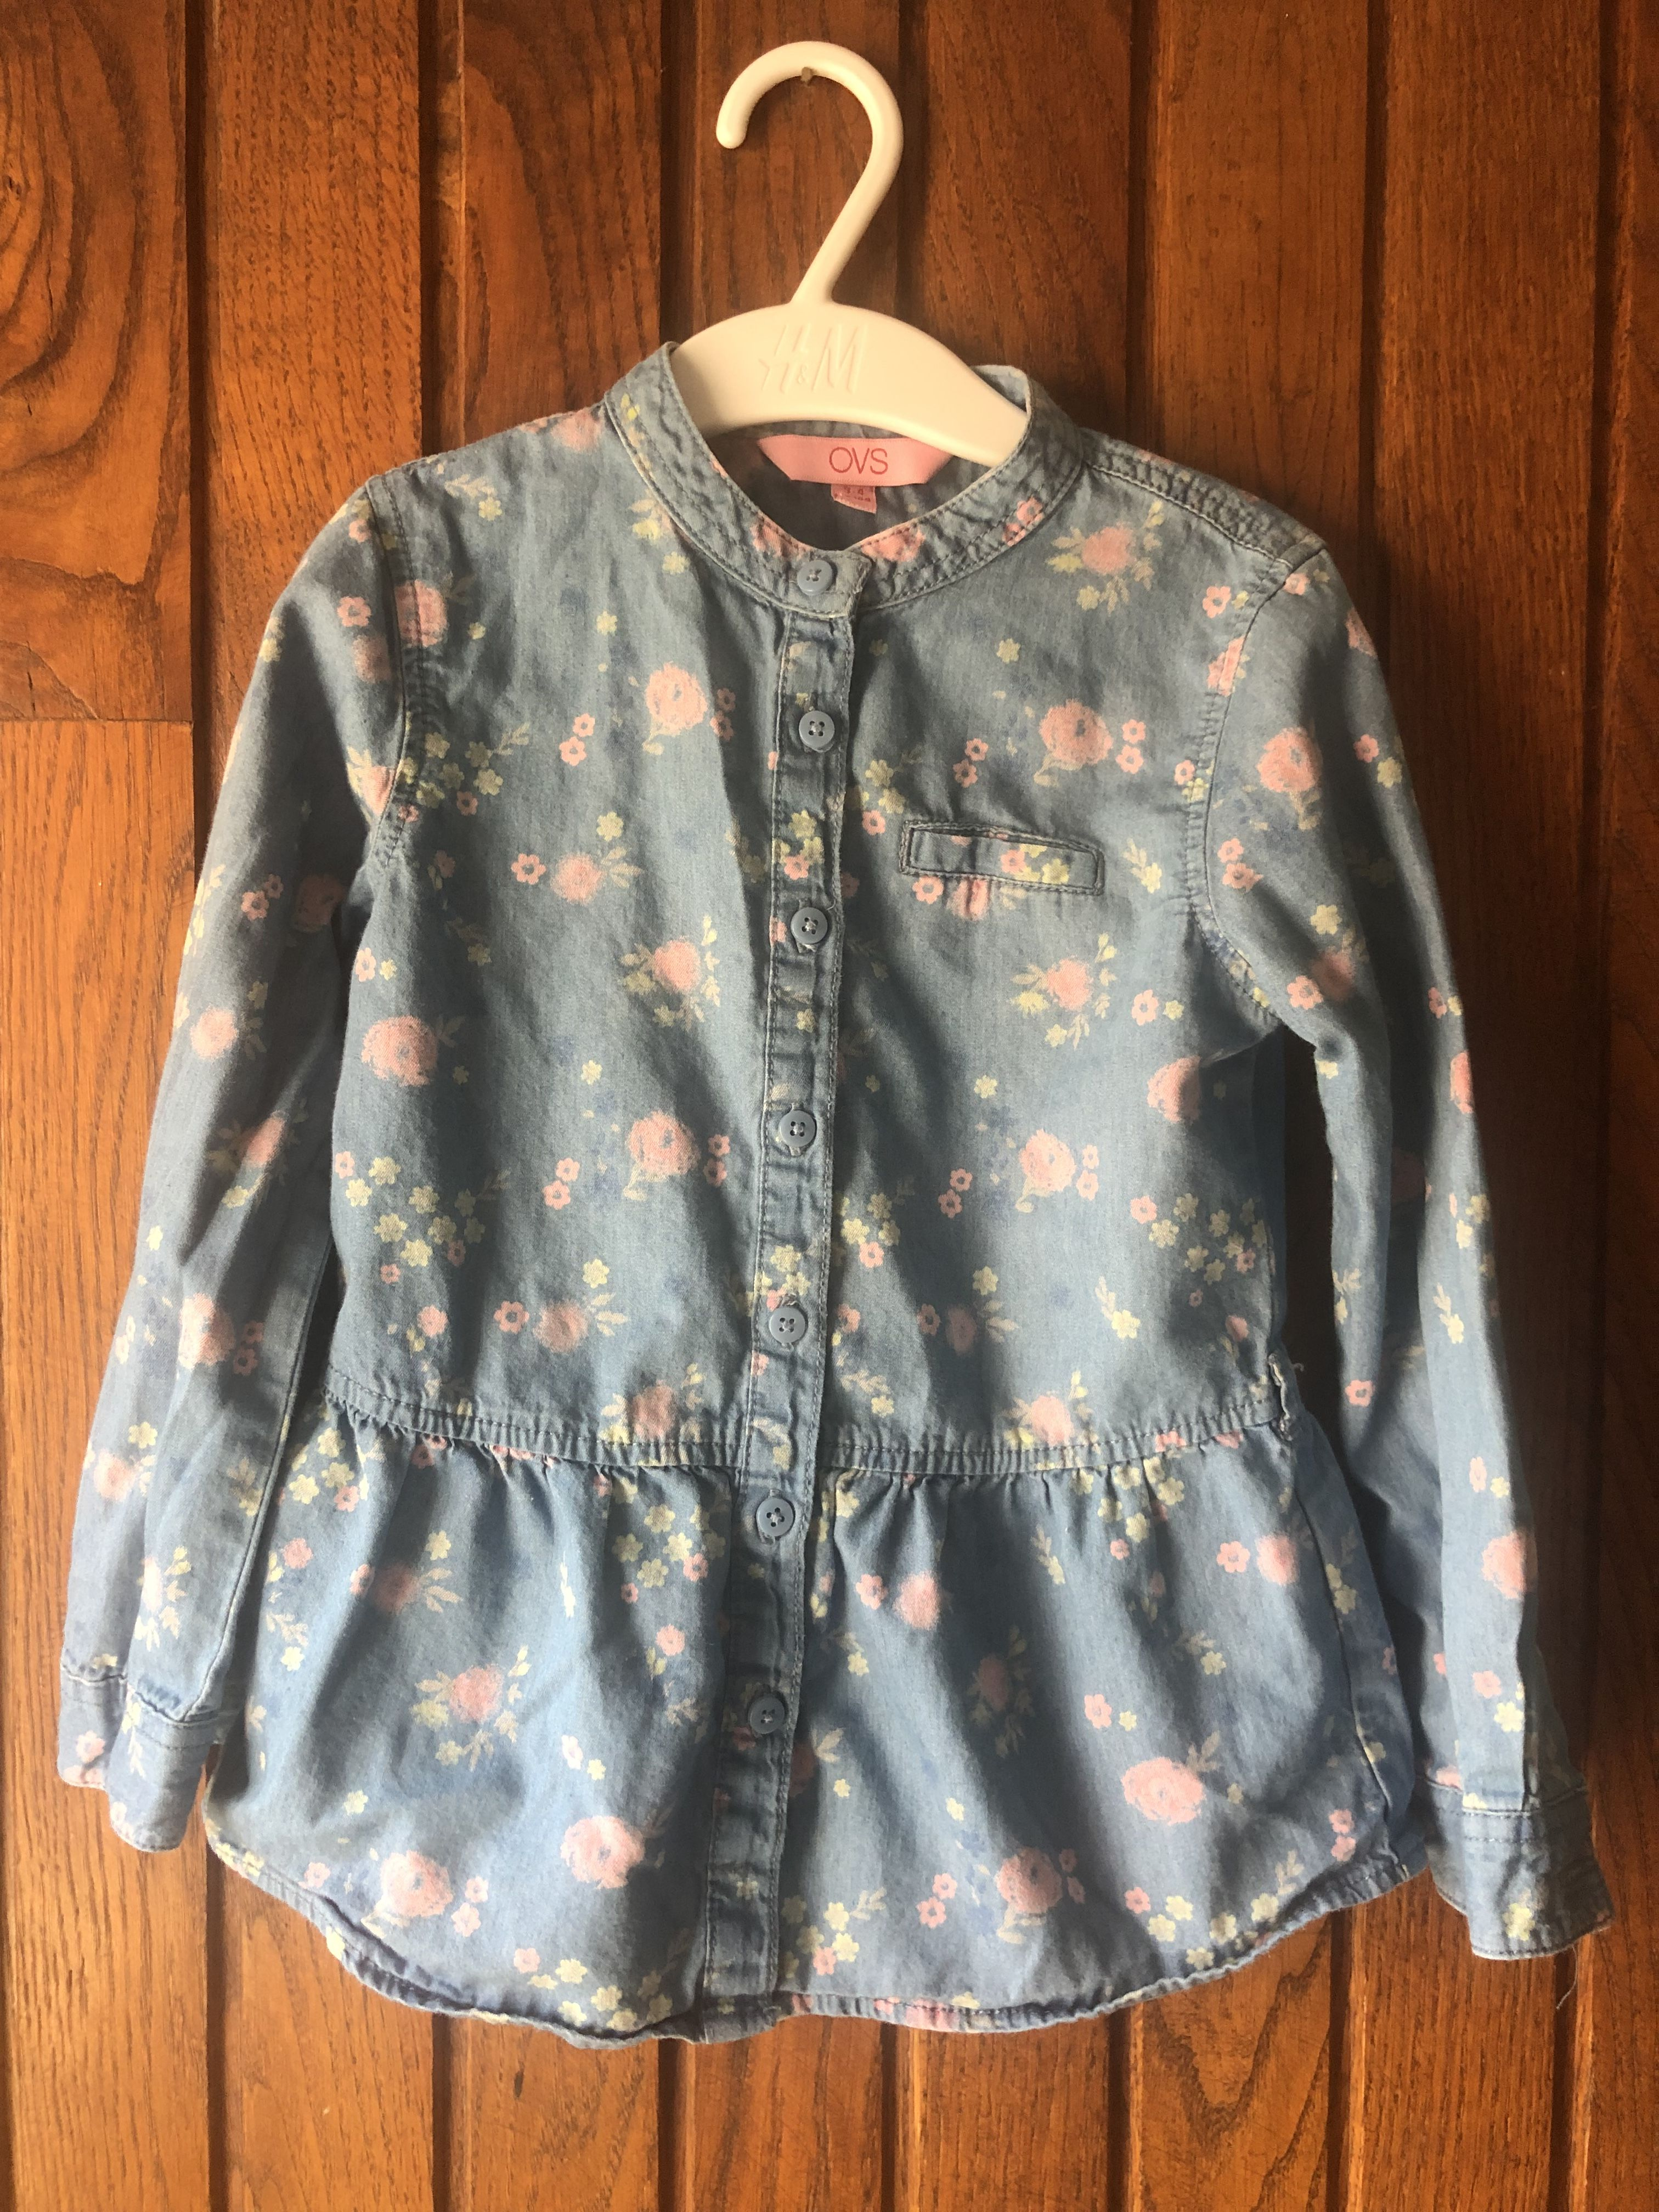clothes: (75, 352, 1645, 2010)
